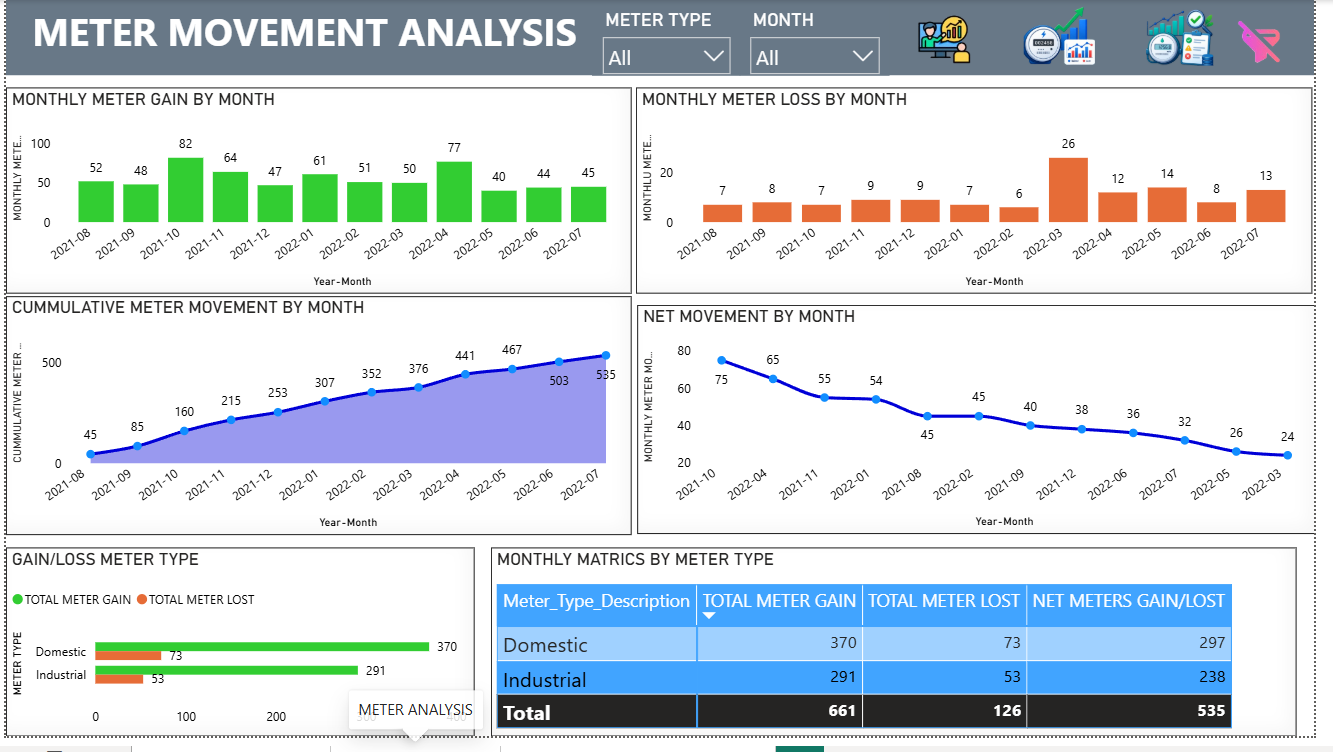

This screenshot's page, from the dashboard's own definition file:
{"tool":"powerbi","page":{"name":"METER ANALYSIS","canvas":[1280,720],"ordinal":1},"visuals":[{"type":"textbox","box":[0,0,1280,73.3],"z":0},{"type":"slicer","fields":{"Values":["Calendar.Year-Month"]},"box":[718.3,3.7,146.7,70],"z":1000,"group":"g1"},{"type":"image","box":[868.6,5.7,97.1,61.4],"z":1000},{"type":"slicer","fields":{"Values":["Meter Types.Meter_Type_Description"]},"box":[573.3,3.7,145,70],"z":2000,"group":"g1"},{"type":"image","box":[987.1,5.7,87.1,58.6],"z":2000},{"type":"image","box":[1101.4,7.1,92.9,57.1],"z":3000},{"type":"group","id":"g1","title":"METER MOVEMENT","box":[0,3.7,1280,716.7],"z":4000},{"type":"image","box":[1194.3,10,68.6,55.7],"z":5000},{"type":"columnChart","title":"MONTHLY METER GAIN BY MONTH","fields":{"Category":["Calendar.Year-Month"],"Y":["Meters.MONTHLY METER GAIN"]},"box":[0,85.4,611.7,201.7],"z":6000,"group":"g1"},{"type":"clusteredColumnChart","title":"MONTHLY METER LOSS BY MONTH ","fields":{"Category":["Calendar.Year-Month"],"Y":["Meters.MONTHLY METER LOSS"]},"box":[616.7,85.4,661.7,201.7],"z":7000,"group":"g1"},{"type":"lineChart","title":"NET MOVEMENT BY MONTH ","fields":{"Y":["Meters.MONTHLY METER MOVEMENT"],"Category":["Calendar.Year-Month"]},"box":[617.1,298.5,662.9,224.3],"z":8000,"group":"g1"},{"type":"clusteredBarChart","title":"GAIN/LOSS METER TYPE ","fields":{"Category":["Meter Types.Meter_Type_Description"],"Y":["Meters.TOTAL METER GAIN","Meters.TOTAL METER LOST"]},"box":[0,535.4,458.3,185],"z":9000,"group":"g1"},{"type":"pivotTable","title":"MONTHLY MATRICS BY METER TYPE","fields":{"Rows":["Meter Types.Meter_Type_Description"],"Values":["Meters.TOTAL METER GAIN","Meters.TOTAL METER LOST","Meters.NET METERS GAIN/LOST"]},"box":[474.8,535.3,788.1,185.2],"z":10000,"group":"g1"},{"type":"lineChart","title":"CUMMULATIVE METER MOVEMENT BY MONTH","fields":{"Category":["Calendar.Year-Month"],"Y":["Meters.CUMMULATIVE METER MOVEMENT"]},"box":[0,290.4,611.7,233.3],"z":11000,"group":"g1"}]}

Visuals, with their boxes in screenshot pixels (x1, y1, x2, y2), scaled from the page's 1280x720 canvas onto the 1333x752 screenshot:
textbox: 0/0/1332/77
slicer - Calendar.Year-Month: 748/4/901/77
image: 905/6/1006/70
slicer - Meter Types.Meter_Type_Description: 597/4/748/77
image: 1028/6/1119/67
image: 1147/7/1244/67
"METER MOVEMENT" group: 0/4/1332/751
image: 1244/10/1315/69
"MONTHLY METER GAIN BY MONTH" columnChart: 0/89/637/300
"MONTHLY METER LOSS BY MONTH " clusteredColumnChart: 642/89/1331/300
"NET MOVEMENT BY MONTH " lineChart: 643/312/1332/546
"GAIN/LOSS METER TYPE " clusteredBarChart: 0/559/477/751
"MONTHLY MATRICS BY METER TYPE" pivotTable: 494/559/1315/751
"CUMMULATIVE METER MOVEMENT BY MONTH" lineChart: 0/303/637/547
